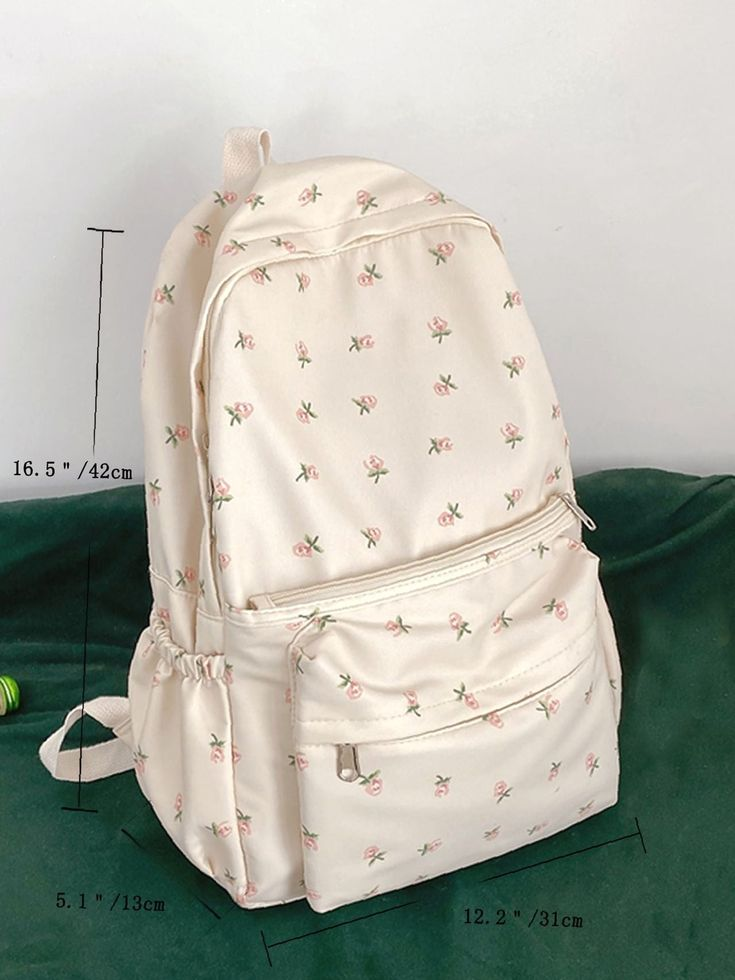nylon: (37, 127, 624, 913)
